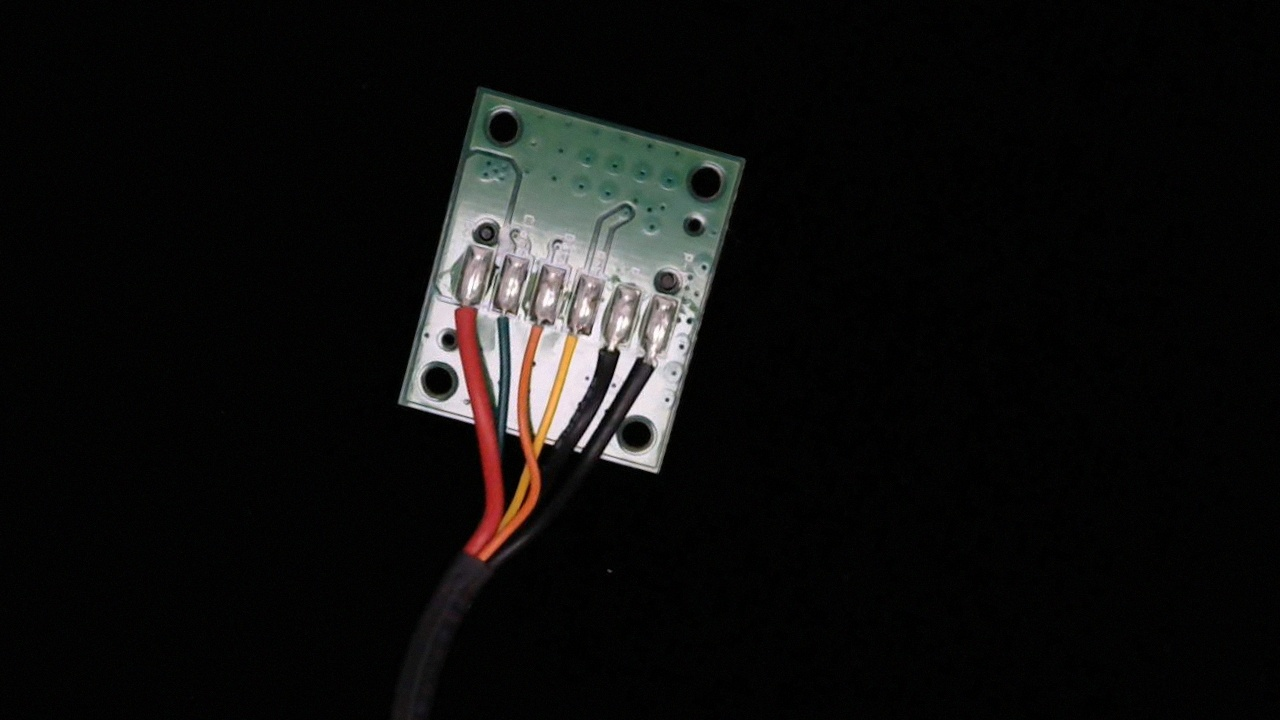Black: (581, 319, 635, 399)
Black1: (624, 328, 675, 401)
Green: (477, 287, 524, 352)
Orange: (511, 302, 560, 377)
Red: (436, 279, 489, 356)
Yellow: (545, 310, 600, 391)
